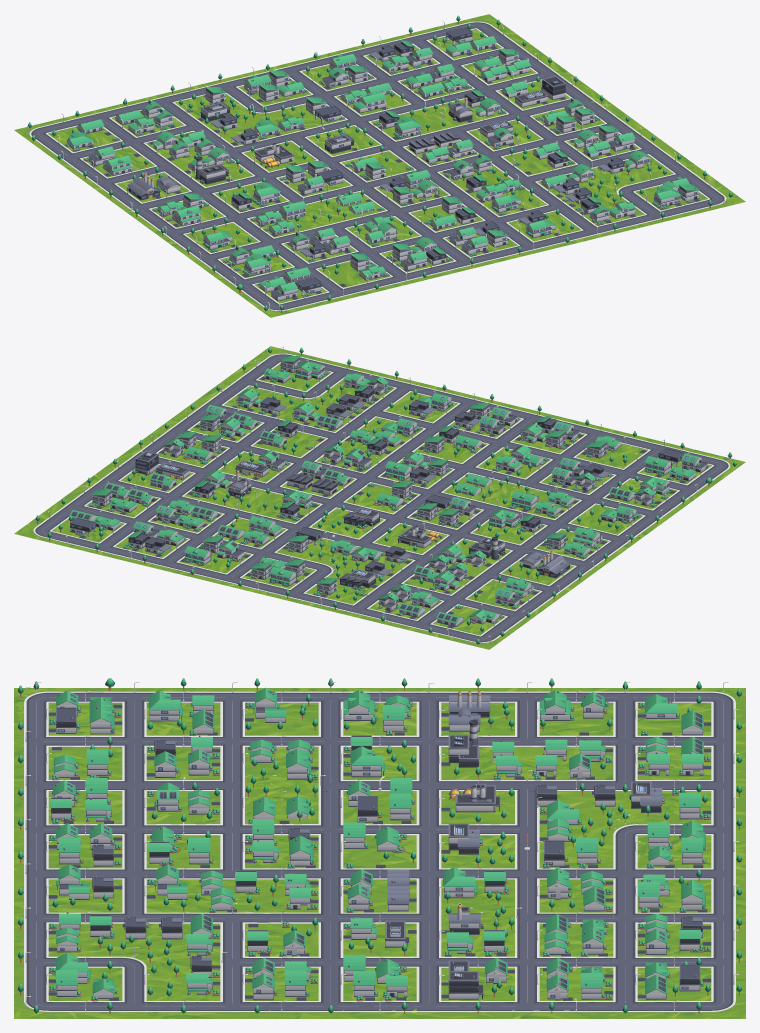
File: neonpugshootermap.glb
The picture shows the model from 3 angles, top to bottom: view 1: azimuth 30°, elevation 25°; view 2: azimuth 150°, elevation 25°; view 3: azimuth 270°, elevation 25°; orthographic projection. The views are drawn at different scales.
Visible parts, largest first — view 1: Plane, building-c.t, building-f.t, building-m.t; view 2: Plane, building-c.t, building-m.t, building-t.t, building-t.t.001, building-f.t; view 3: Plane, building-c.t, building-f.t, building-d.t, building-t.t, building-type-f.t.001, building-type-f.t, building-t.t.001, building-type-f.t.002, building-type-n.t, building-type-t.t.001, building-type-t.t (+40 smaller).
Boxes of the visible parts, x1,y1,x2,y2 form: Plane: (14, 14, 745, 317); building-c.t: (254, 142, 293, 168); building-f.t: (195, 156, 228, 184); building-m.t: (126, 172, 160, 200); Plane: (14, 346, 745, 649); building-c.t: (397, 525, 441, 548); building-m.t: (536, 550, 570, 578); building-t.t: (343, 507, 379, 528); building-t.t.001: (339, 569, 376, 590); building-f.t: (468, 536, 505, 559); Plane: (14, 688, 745, 1018); building-c.t: (449, 784, 500, 812); building-f.t: (448, 719, 479, 767); building-d.t: (448, 971, 483, 999); building-t.t: (448, 823, 482, 854); building-type-f.t.001: (350, 746, 384, 777); building-type-f.t: (148, 690, 182, 721); building-t.t.001: (631, 781, 665, 812); building-type-f.t.002: (443, 867, 477, 898); building-type-n.t: (252, 687, 286, 722); building-type-t.t.001: (539, 690, 574, 720); building-type-t.t: (343, 690, 377, 720).
Bounding box in the file's own units: 192 × 9.98 × 180.
Materials: 43 (43 with a texture image).
